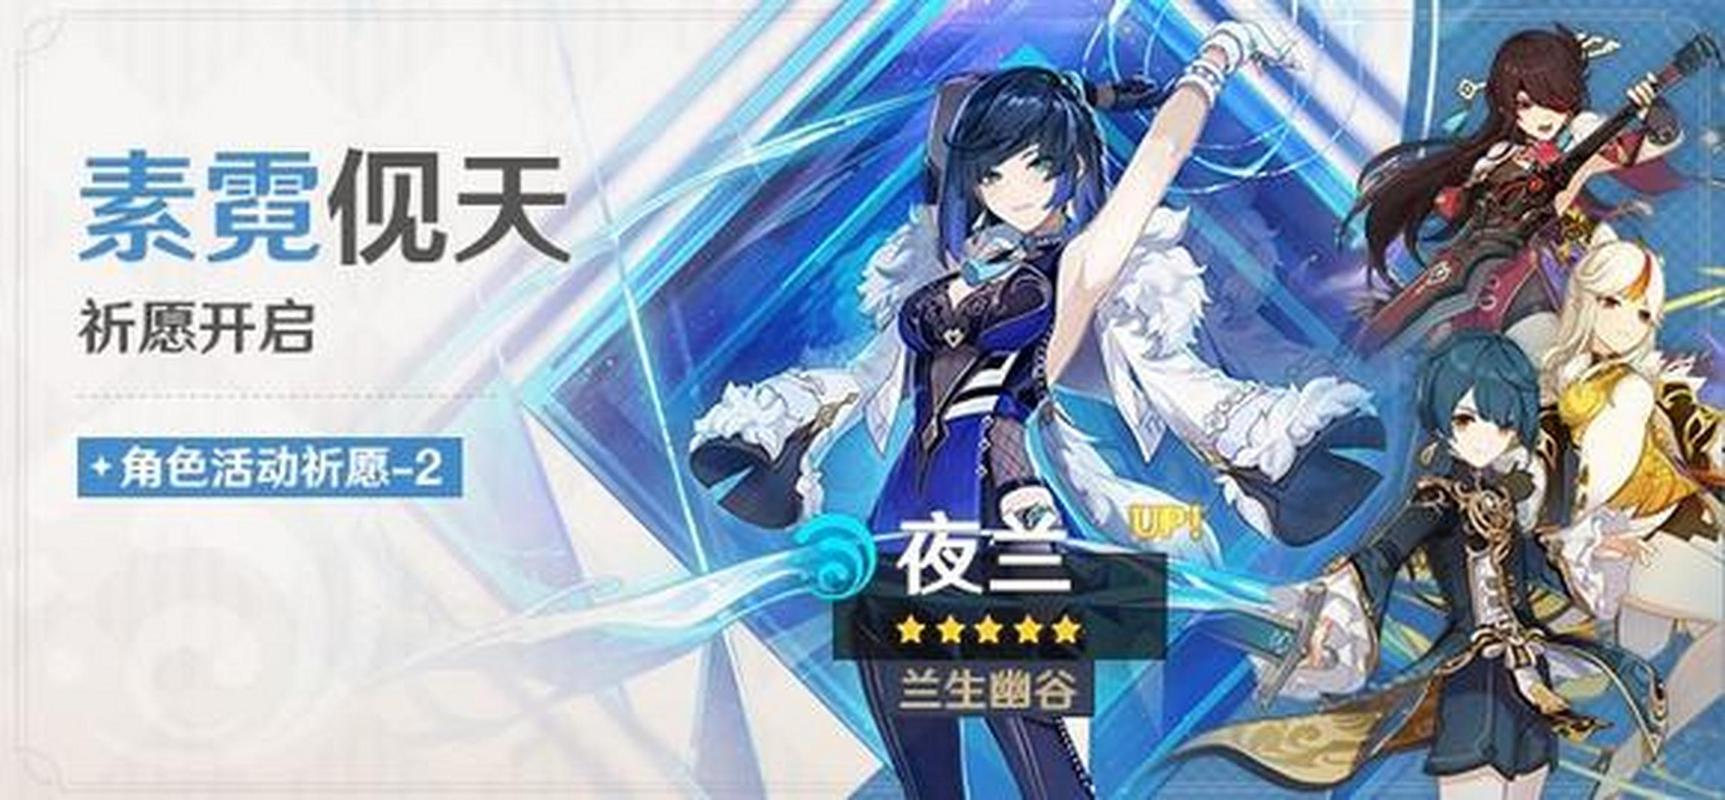夜兰: (845, 20, 1312, 800)
